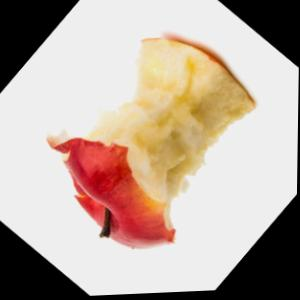organic: (17, 3, 285, 283)
